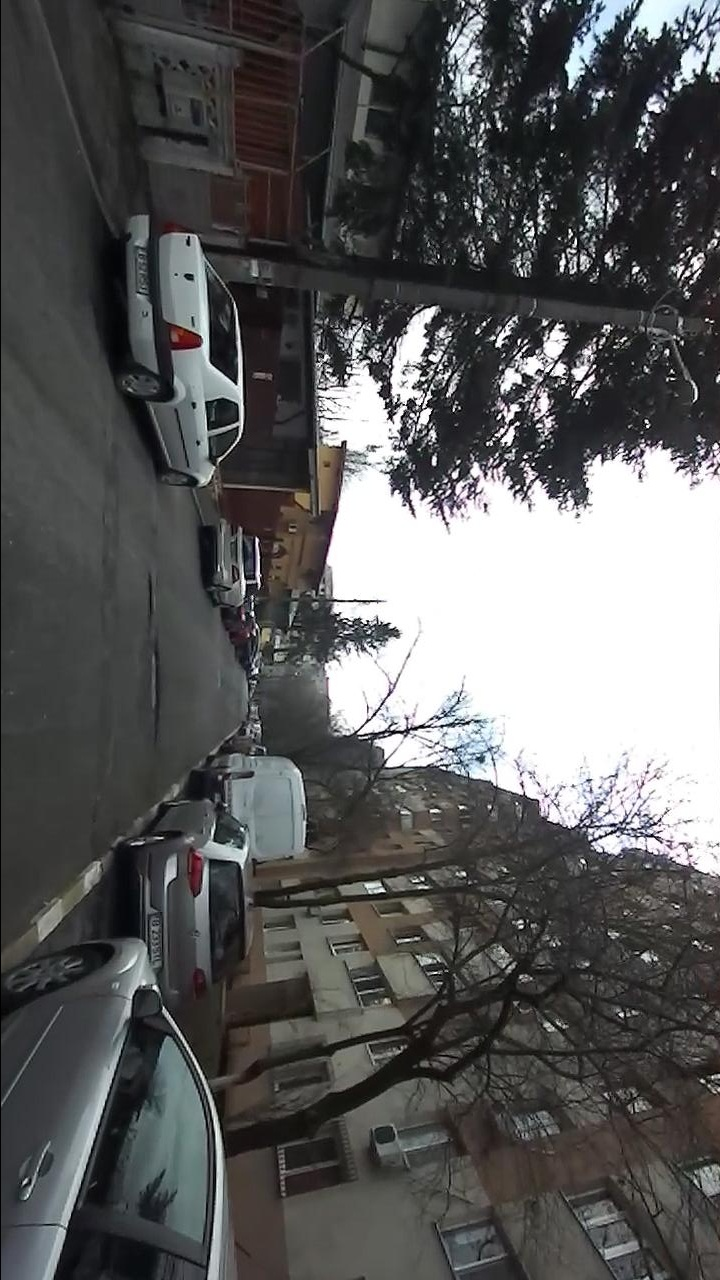pothole: (143, 645, 163, 749), (143, 572, 154, 629)
